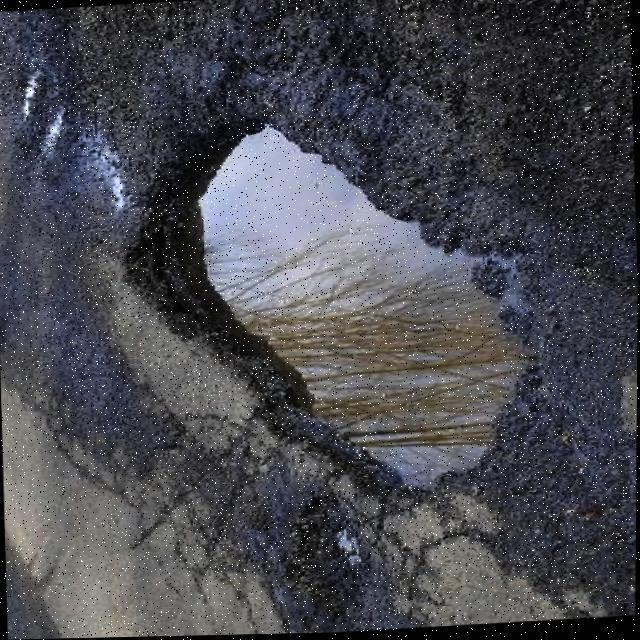pothole: (116, 106, 552, 512), (282, 490, 368, 620)
